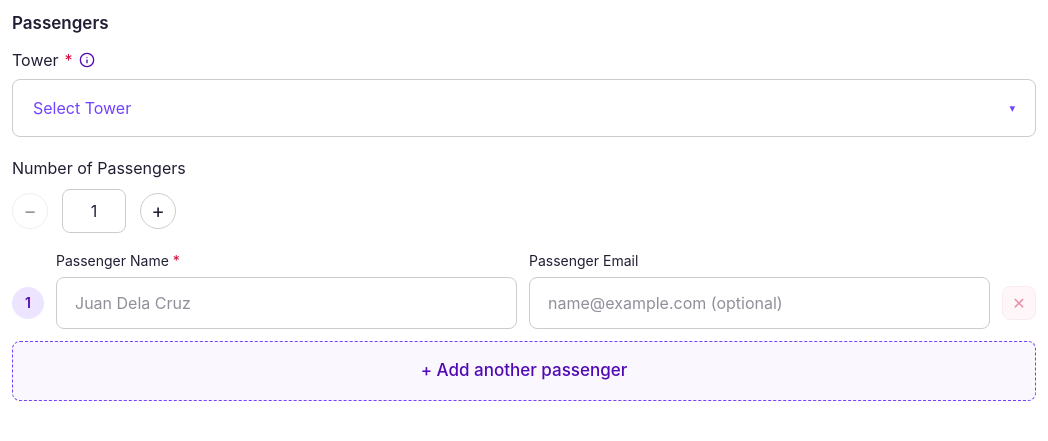
PassengerList / PassengerRow › offers every tower and reports the pick
This screenshot has width=1048, height=441.
expect the dropdown with placeholder "Juan Dela Cruz" is shown: met, box top-left (56, 277), bottom-right (517, 329)
Click the dropdown labelled "Select Tower ▾": (82, 108) top-left (12, 79), bottom-right (1036, 137)
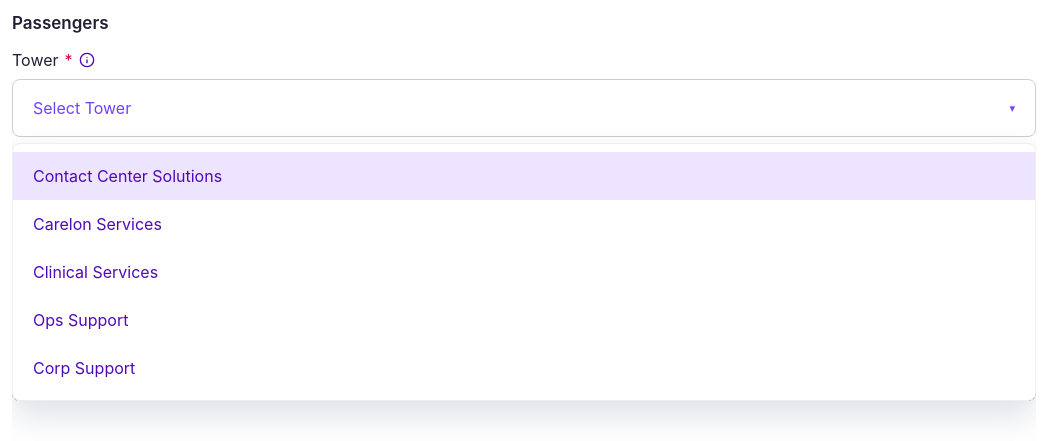
expect the option "Contact Center Solutions" is shown: met, box top-left (13, 152), bottom-right (1035, 200)
expect the option "Carelon Services" is shown: met, box top-left (13, 200), bottom-right (1035, 248)
expect the option "Clinical Services" is shown: met
Click the option "Clinical Services": (96, 272) top-left (13, 248), bottom-right (1035, 296)
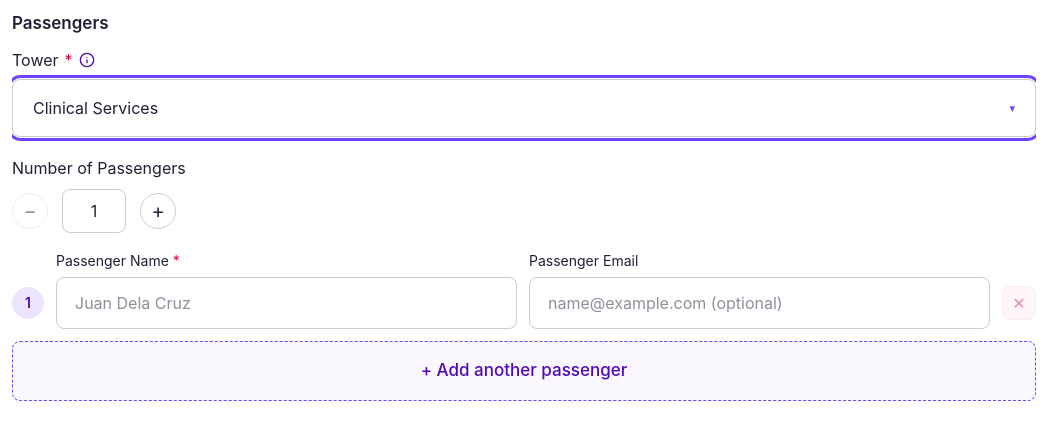
expect the dropdown named "Tower" shows "Clinical Services": met, box top-left (12, 79), bottom-right (1036, 137)
